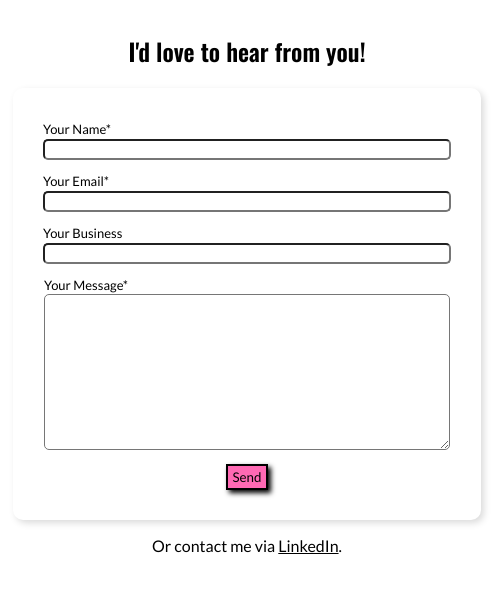
Test case: Contact form › rejects an invalid email address
Type "Ada" into the field labelled "Your Name*" at {"x": 247, "y": 150}, box [43,139,451,160]
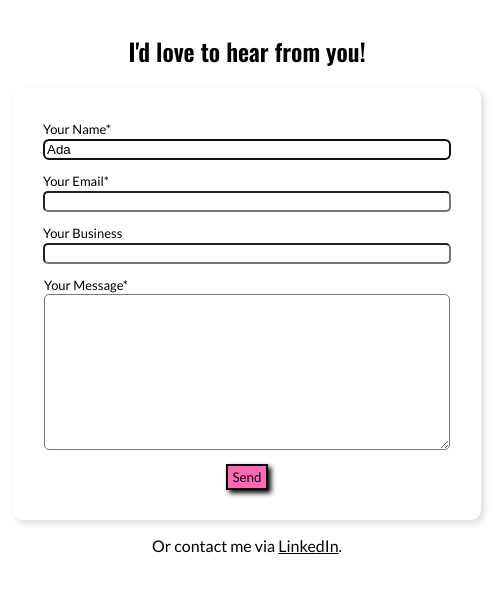
Type "not-an-email" into the field labelled "Your Email*" at {"x": 247, "y": 202}, box [43,191,451,212]
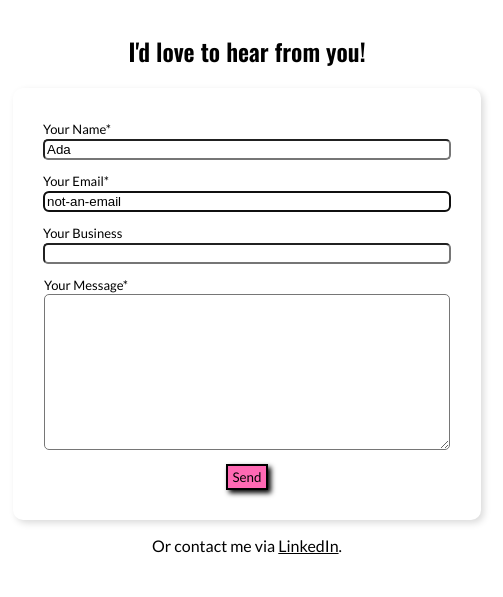
Type "Hello!" into the text box labelled "Your Message*" at {"x": 247, "y": 372}, box [44,294,450,450]
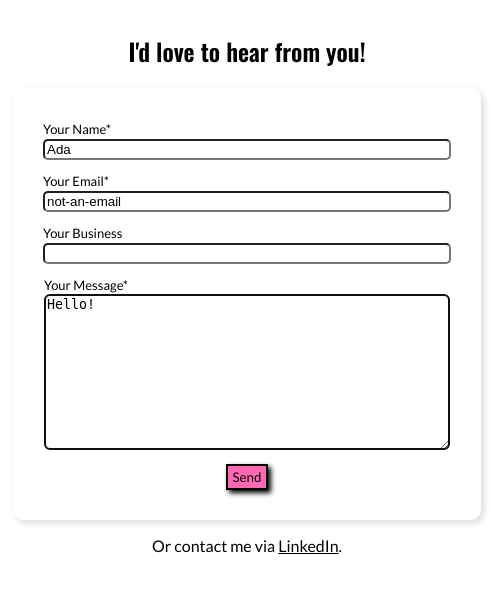
Click the button "Send" at {"x": 247, "y": 477}, box [226,464,268,490]
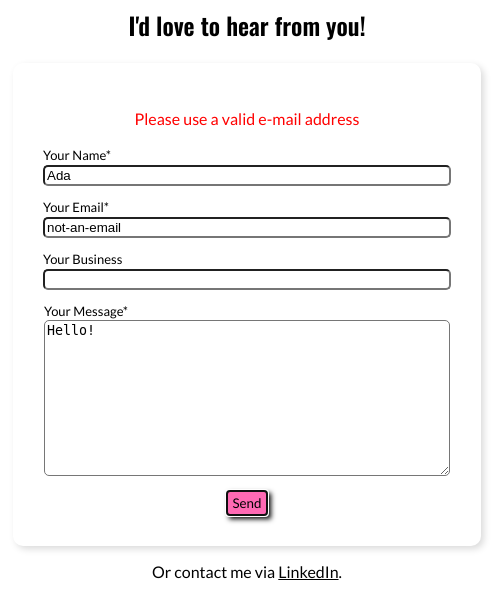
Now the text "Please use a valid e-mail address" is shown, box [134,109,360,128]
